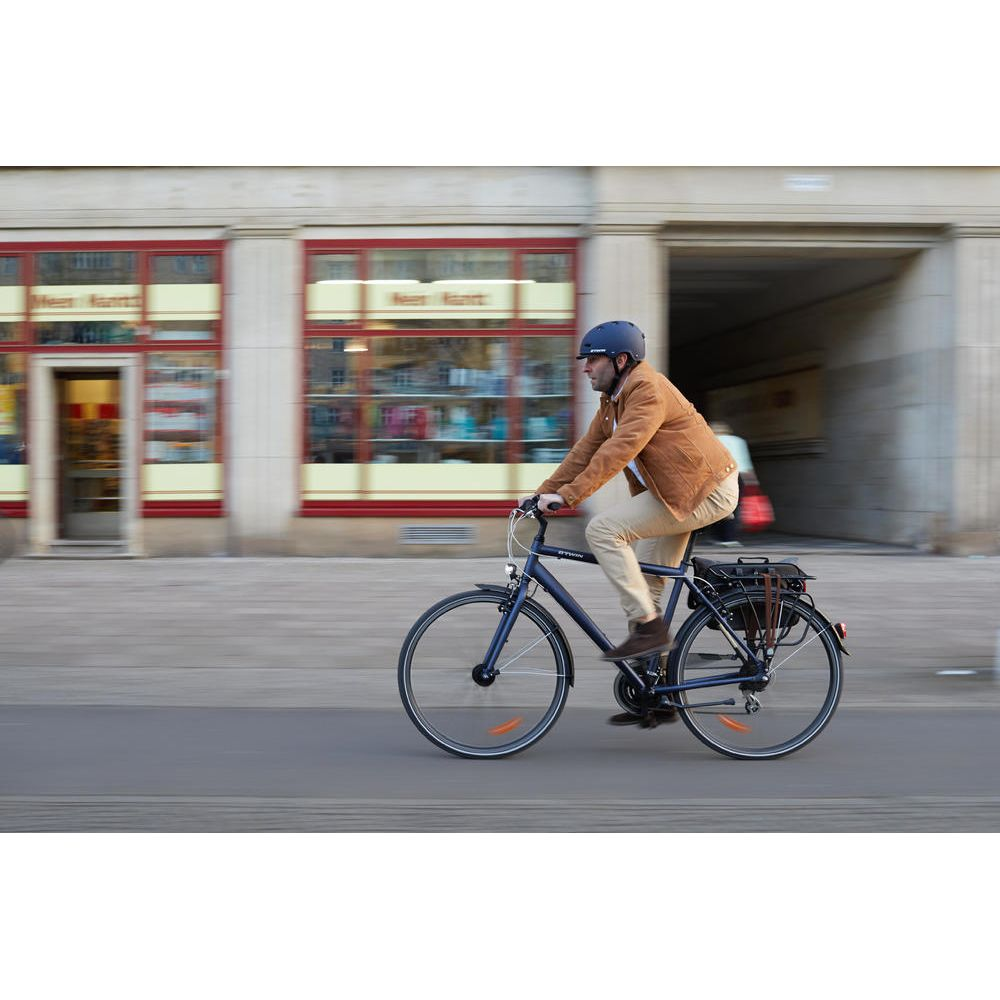RoadBike: (268, 532, 935, 832), (11, 549, 587, 833)
